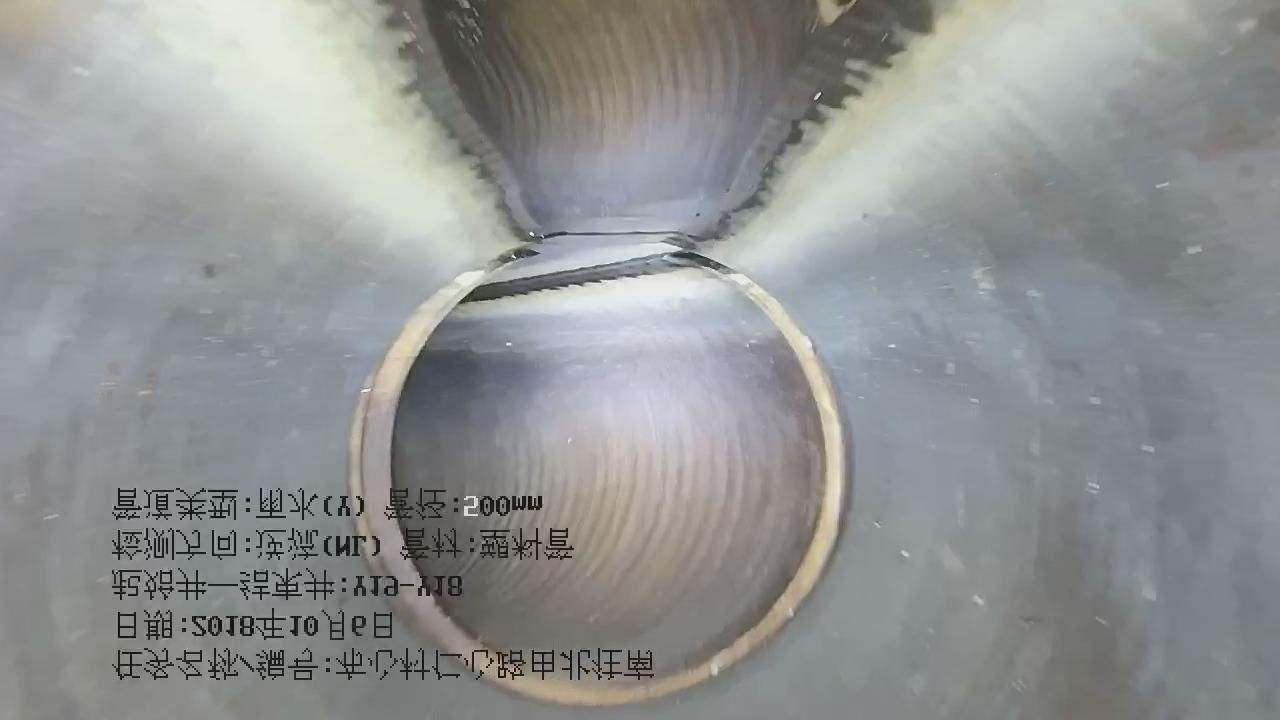CKTJ: (337, 236, 861, 713)
